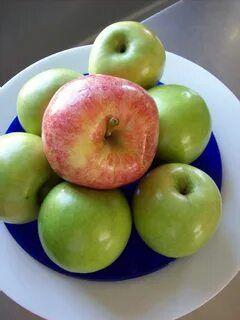fruit: (42, 70, 160, 184), (38, 182, 133, 274), (134, 163, 222, 257), (90, 22, 166, 90), (150, 84, 212, 164), (0, 133, 47, 226)
